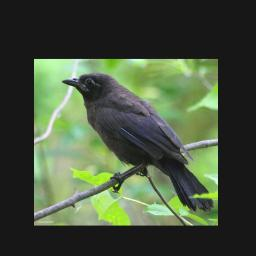Crow: (62, 72, 215, 213)
